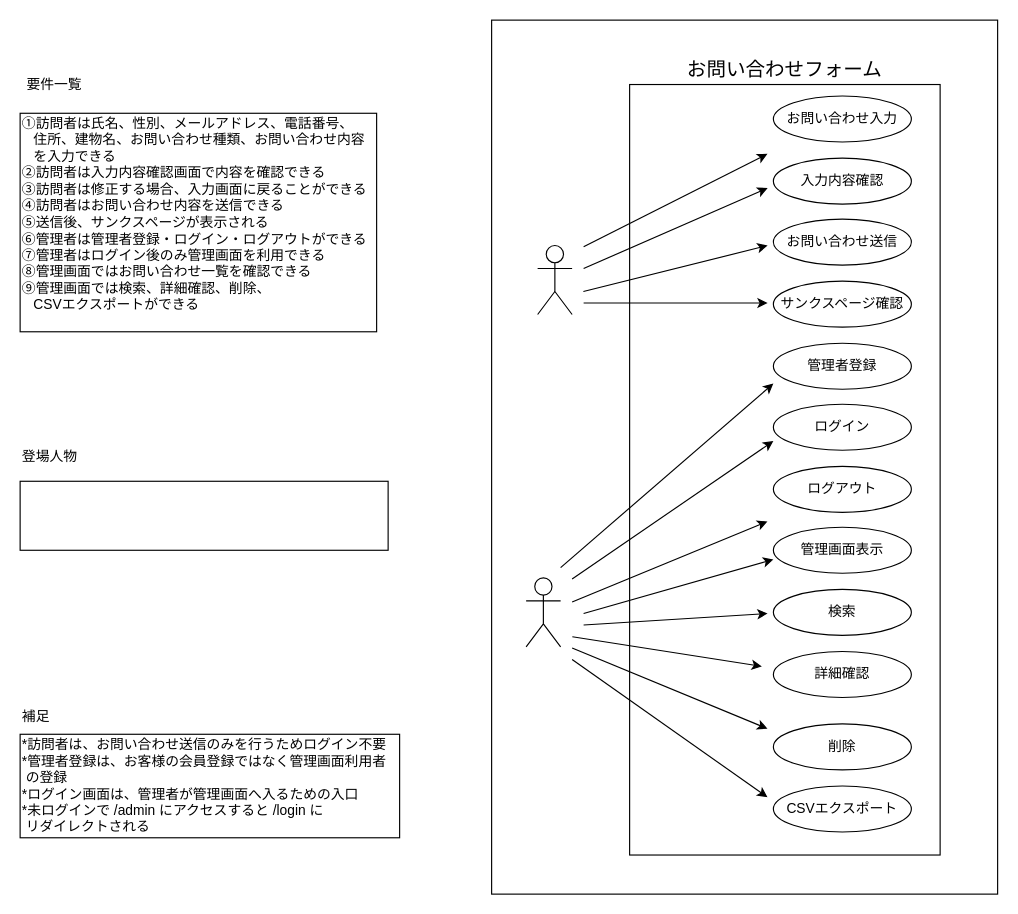
The diagram is 1018 pixels wide and 914 high, and some of its shapes have lost their labels. Each missing label, with the centre of its shape:
"*訪問者：お問い合わせフォームを利用する人 *管理者：ログイン後にお問い合わせ内容を管理する人" belongs at point 203,515.
"管理者" belongs at point 543,612.
"訪問者" belongs at point 554,279.
